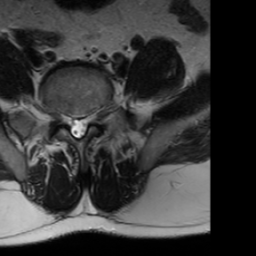CCS_normal: (74, 111, 81, 143)
LFS_normal: (88, 106, 96, 131)
LLS_normal: (81, 112, 88, 140)
RFS_normal: (60, 107, 69, 130)
RLS_normal: (68, 110, 75, 138)
